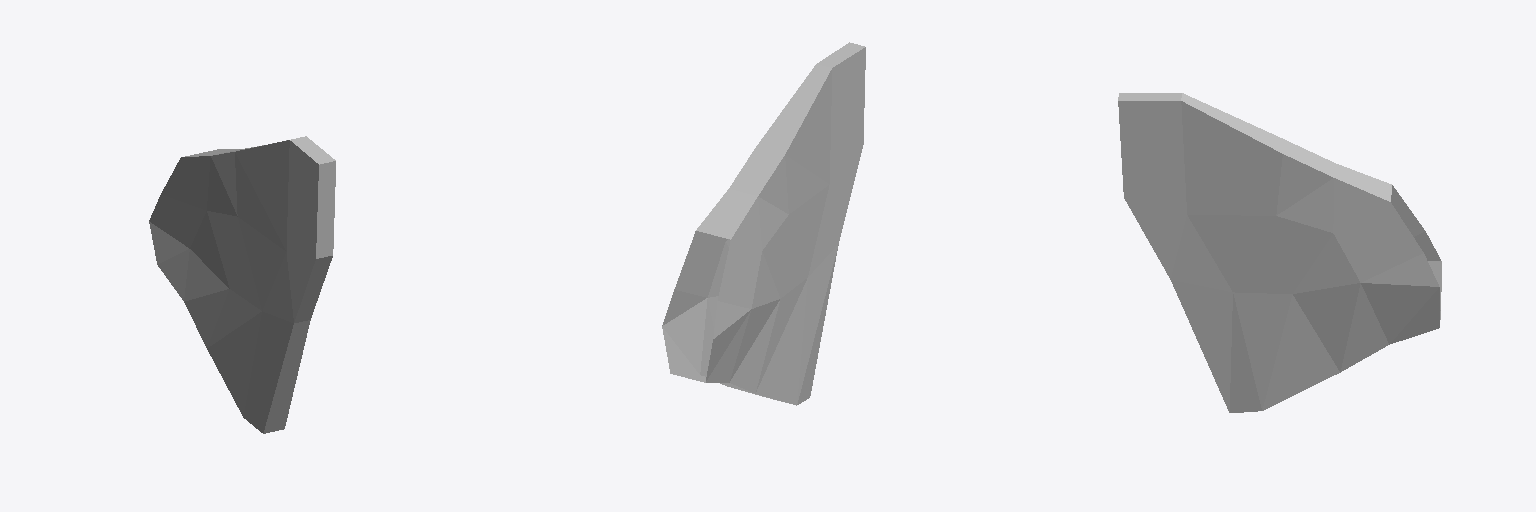
The model's file is colapez1.obj.
The picture shows the model from 3 angles: view 1: azimuth 30°, elevation 25°; view 2: azimuth 150°, elevation 25°; view 3: azimuth 270°, elevation 25°; orthographic projection.
Parts seen in each view (by area): view 1: polySurface92; view 2: polySurface92; view 3: polySurface92.
Part boxes in pixels (bbox=[...]): polySurface92: bbox=[149, 136, 335, 433]; polySurface92: bbox=[662, 42, 865, 405]; polySurface92: bbox=[1118, 93, 1441, 412].
Size of the model in its own units: 0.0305 by 0.1737 by 0.1635.